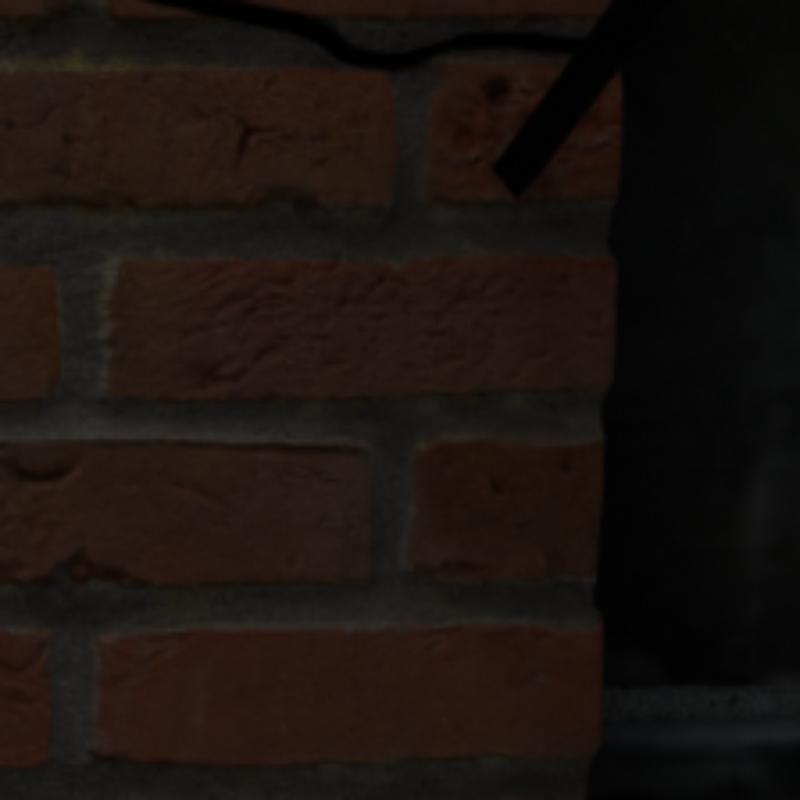crack: (146, 0, 582, 68)
